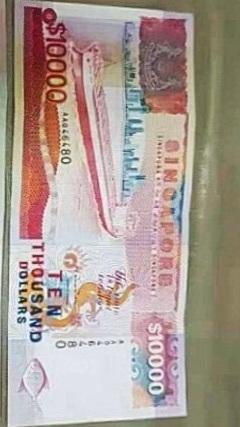10000SingaporeDollar: (15, 9, 187, 414)
